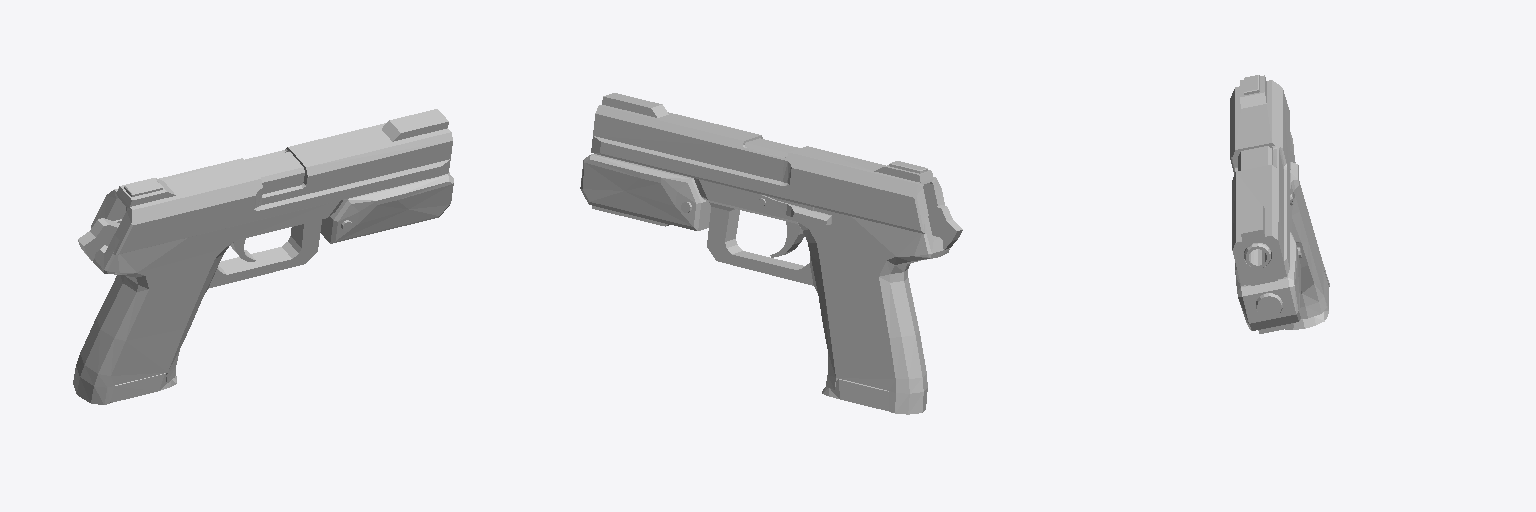
Rendered from pistol2_000032.obj.
3 renders of one model, left to right at view 1: azimuth 30°, elevation 25°; view 2: azimuth 150°, elevation 25°; view 3: azimuth 270°, elevation 25°, orthographic.
Visible parts, largest first — view 1: Pistol; view 2: Pistol; view 3: Pistol.
Part boxes in pixels (left/top/right/bottom): Pistol: left=73, top=109, right=453, bottom=404; Pistol: left=580, top=93, right=962, bottom=414; Pistol: left=1230, top=75, right=1329, bottom=333.
Size of the model in its own units: 0.9462 by 0.5524 by 0.2219.